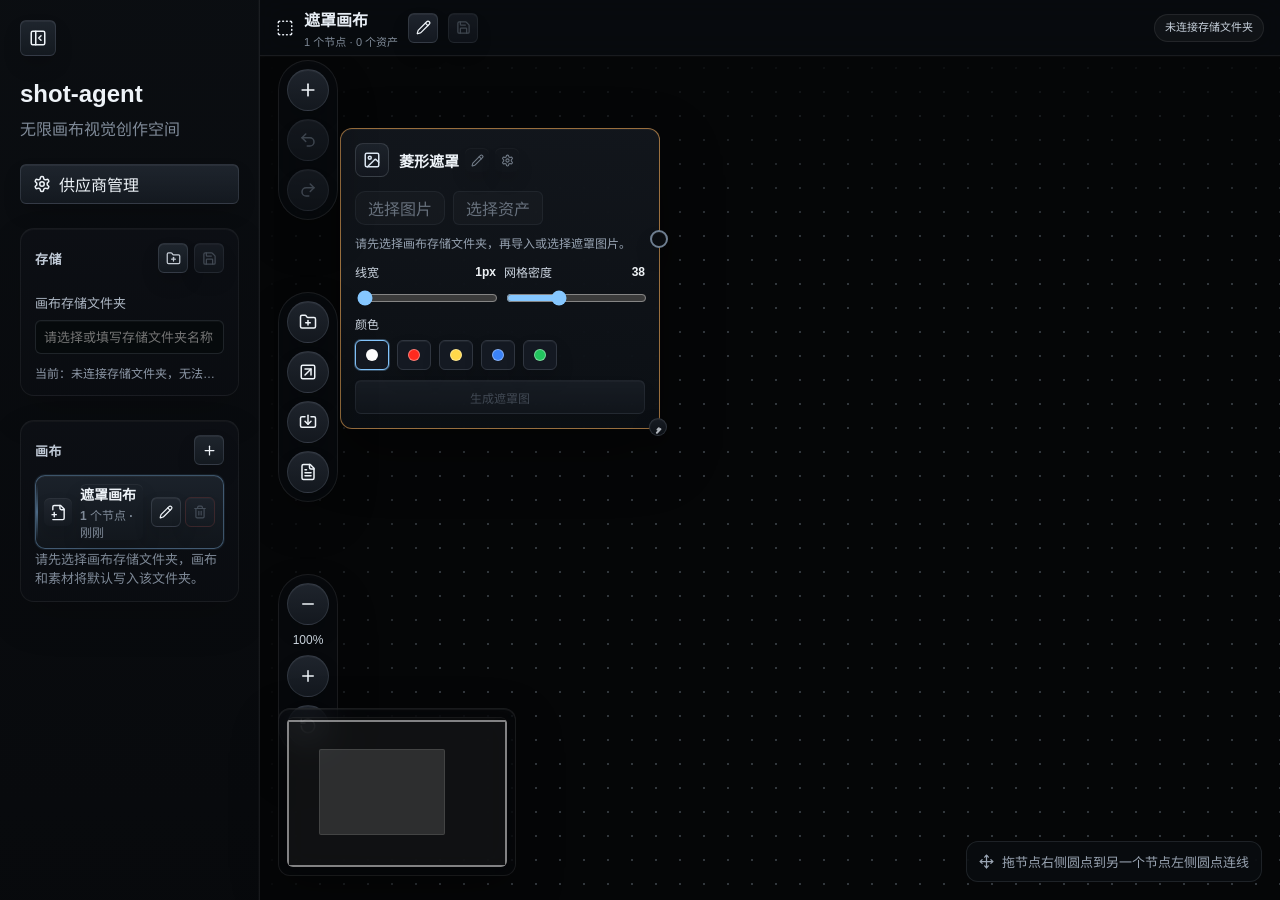
Test case: App diamond mask node › guides the user to connect a storage folder before selecting a mask image
This screenshot has width=1280, height=900.
Expected: the element "菱形遮罩" is shown, left=340, top=128, right=660, bottom=429
Expected: the text "请先选择画布存储文件夹，再导入或选择遮罩图片。" is shown, left=355, top=235, right=645, bottom=253
Click the button "选择图片" at (400, 208), box left=355, top=191, right=445, bottom=225
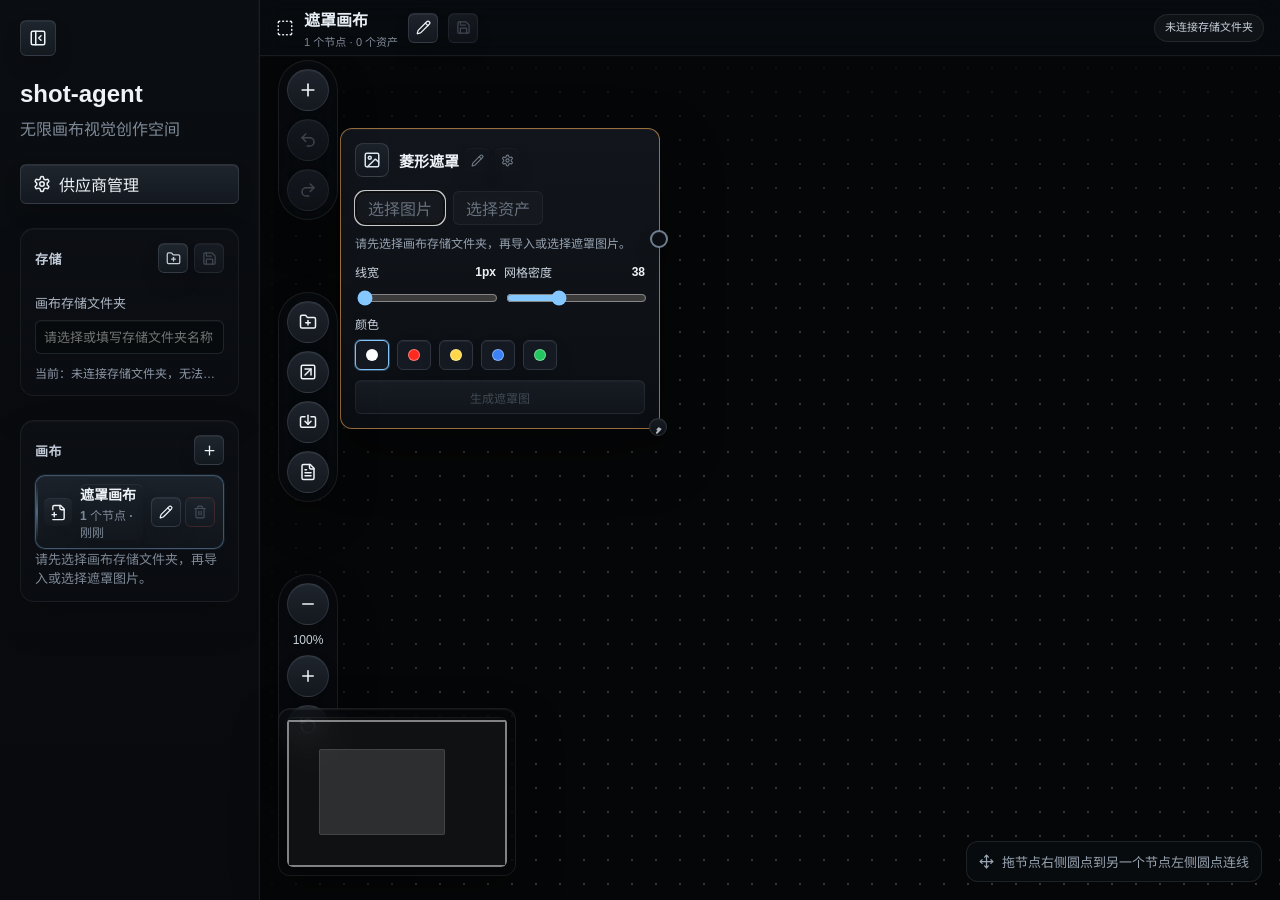
Result: the text with class "canvas-message" reads "请先选择画布存储文件夹，再导入或选择遮罩图片。" at left=35, top=552, right=217, bottom=586
